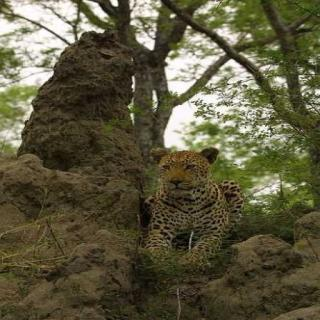Leopard: (151, 152, 242, 272)
